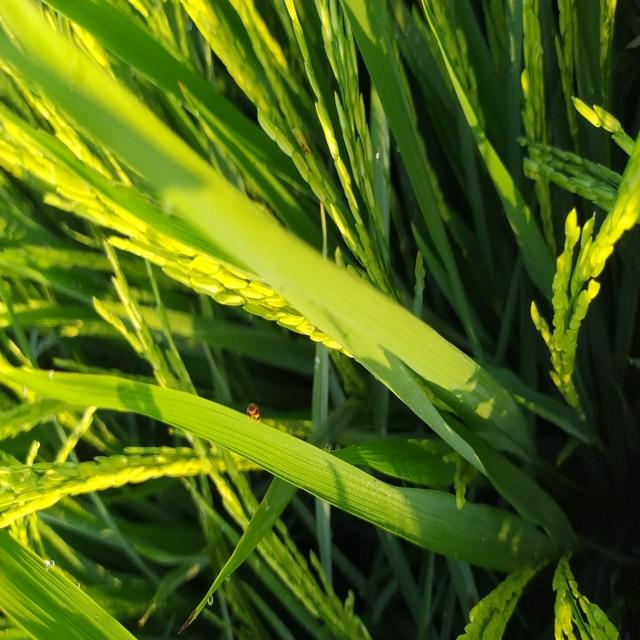Brown spot: (177, 599, 205, 640), (298, 138, 313, 158)
